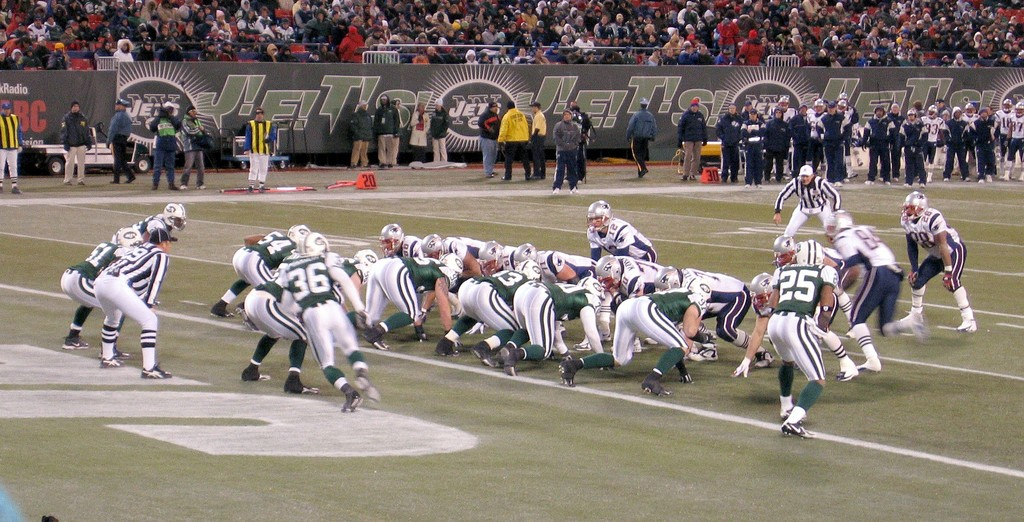Person: (212, 199, 775, 410), (714, 93, 1024, 183), (348, 93, 454, 167)
